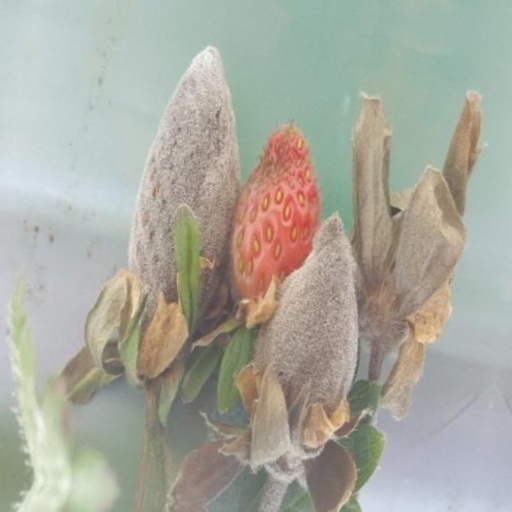Gray Mold: (227, 36, 395, 316), (129, 120, 231, 456)
